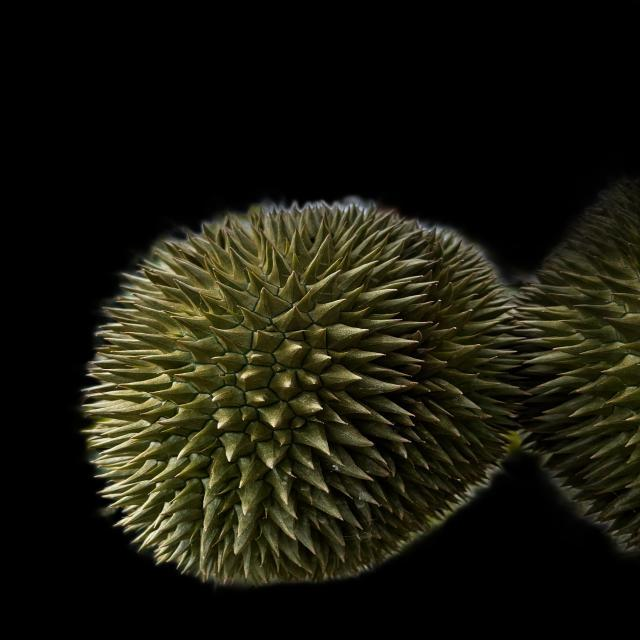immature: (72, 194, 541, 596)
